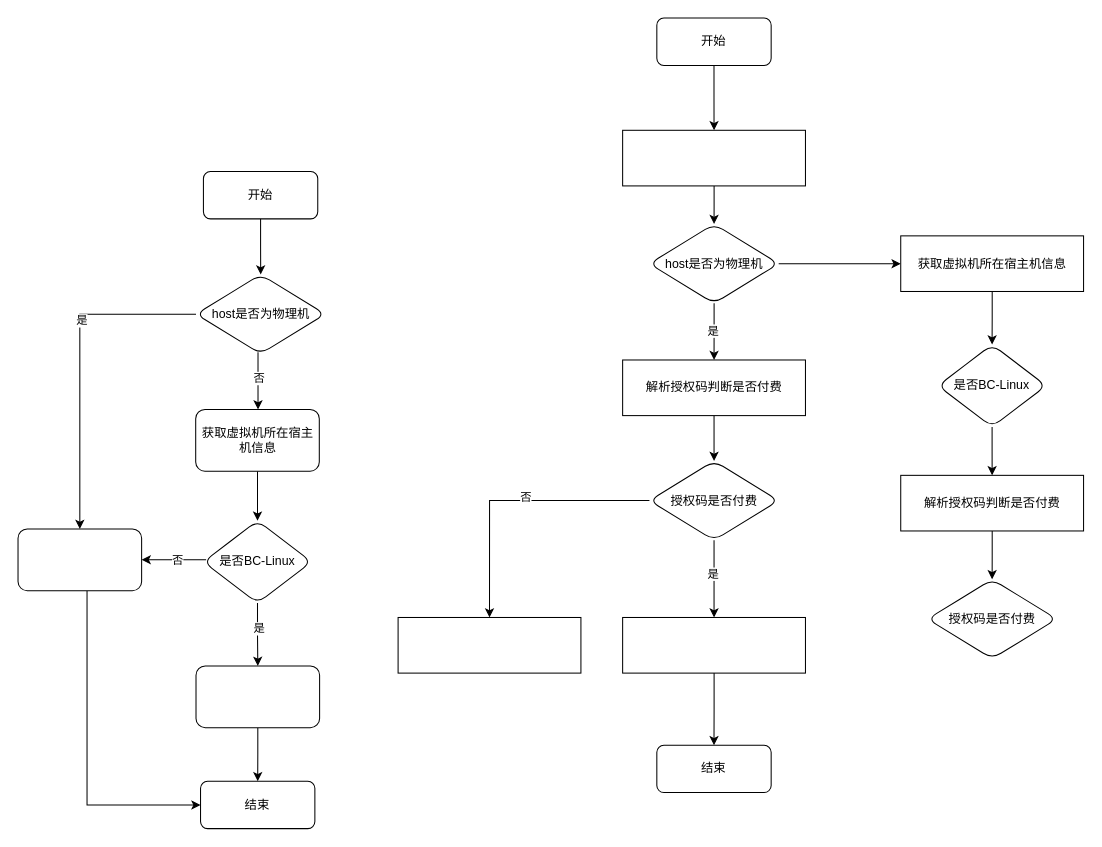
Some shapes in this 1102 by 847 pixel diagram are drawn without their labels. The shapes that lost their labels are listed below. From the top down, each one's centre as x and y in pixels, then its label:
At point (713, 157): "获取当前OS的host信息".
At point (79, 559): "付费授权".
At point (489, 644): "提示License不可用".
At point (713, 644): "授权成功，写入license".
At point (257, 696): "免费授权".
